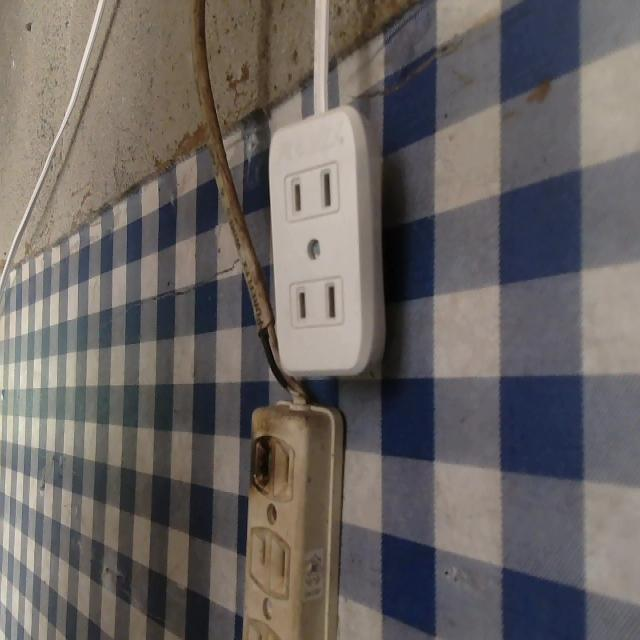-: (242, 431, 280, 497)
